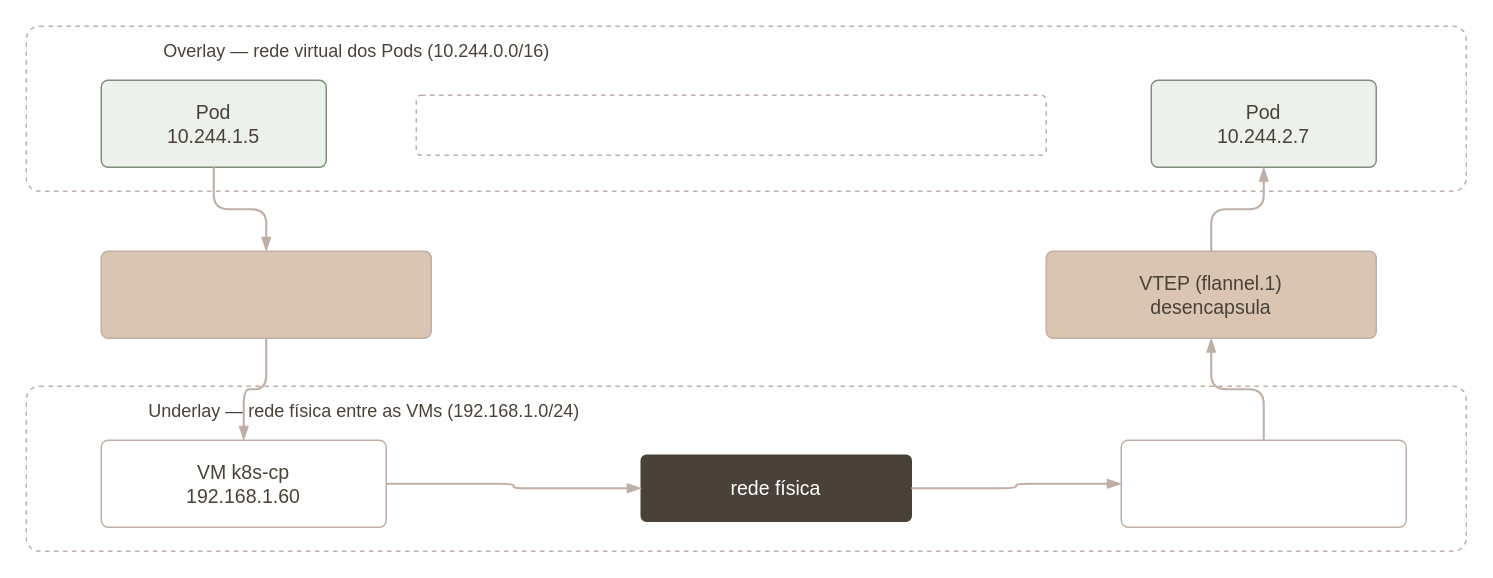
The diagram is 1493 pixels wide and 578 high, and some of its shapes have lost their labels. Here are the shapes that lost their labels. From the top down, the centre of each, then its label:
At point 730,124: "os Pods comunicam como se estivessem na mesma rede local".
At point 265,294: "VTEP (flannel.1) encapsula em UDP".
At point 1263,483: "VM k8s-w1 192.168.1.61".
